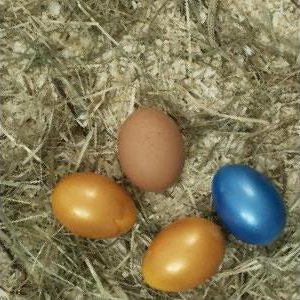egg: (140, 217, 226, 293), (211, 164, 287, 245), (50, 171, 139, 240), (118, 107, 184, 193)
